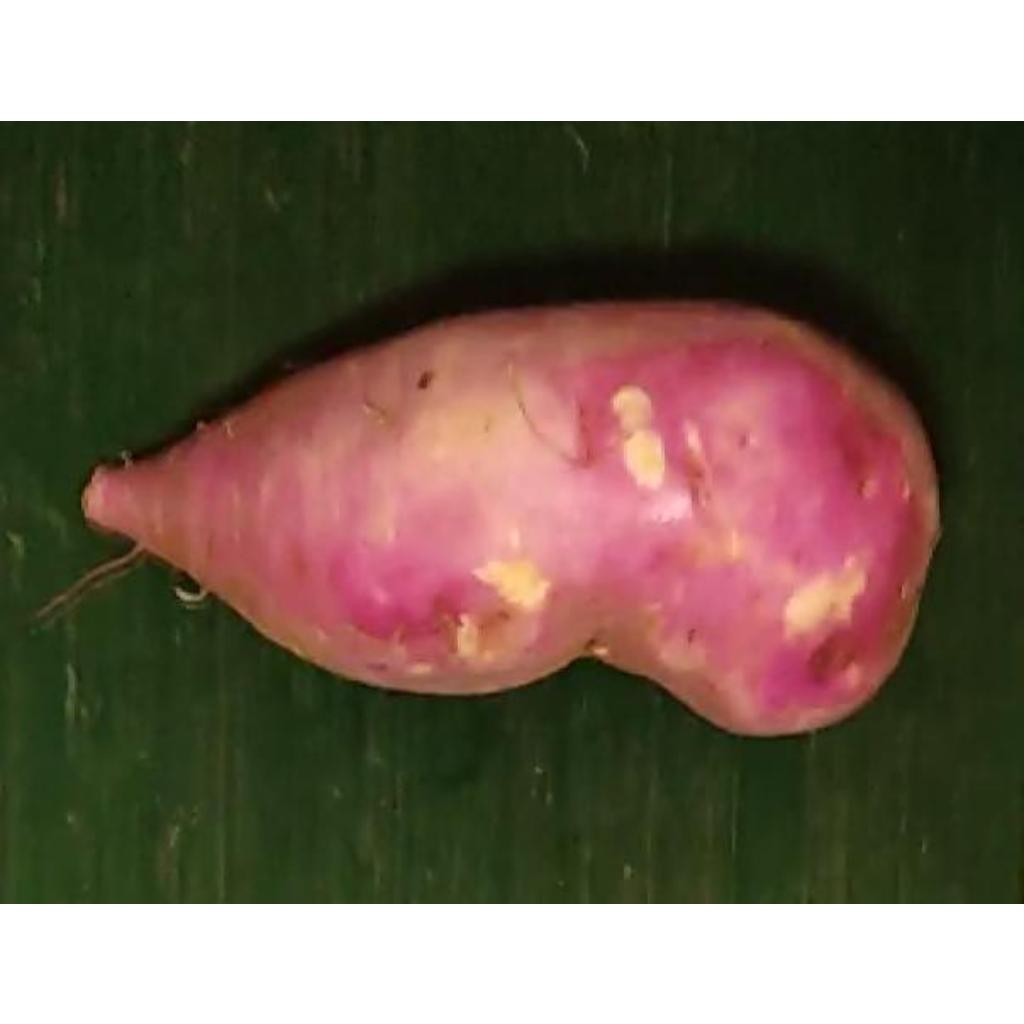Sweet Potato: (83, 298, 932, 739)
